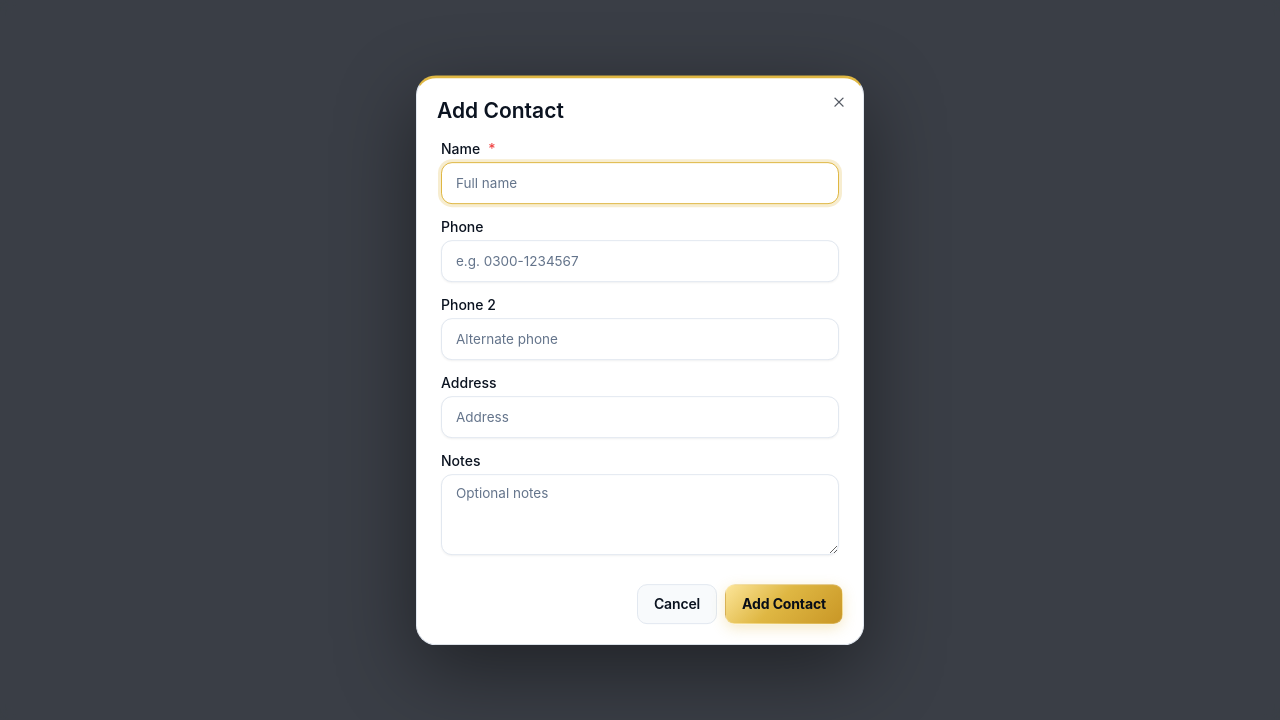
ContactDialog component › shows validation error and prevents submission when name is blank
This screenshot has width=1280, height=720.
Click the button "Add Contact": click(784, 604) [725, 584, 843, 624]
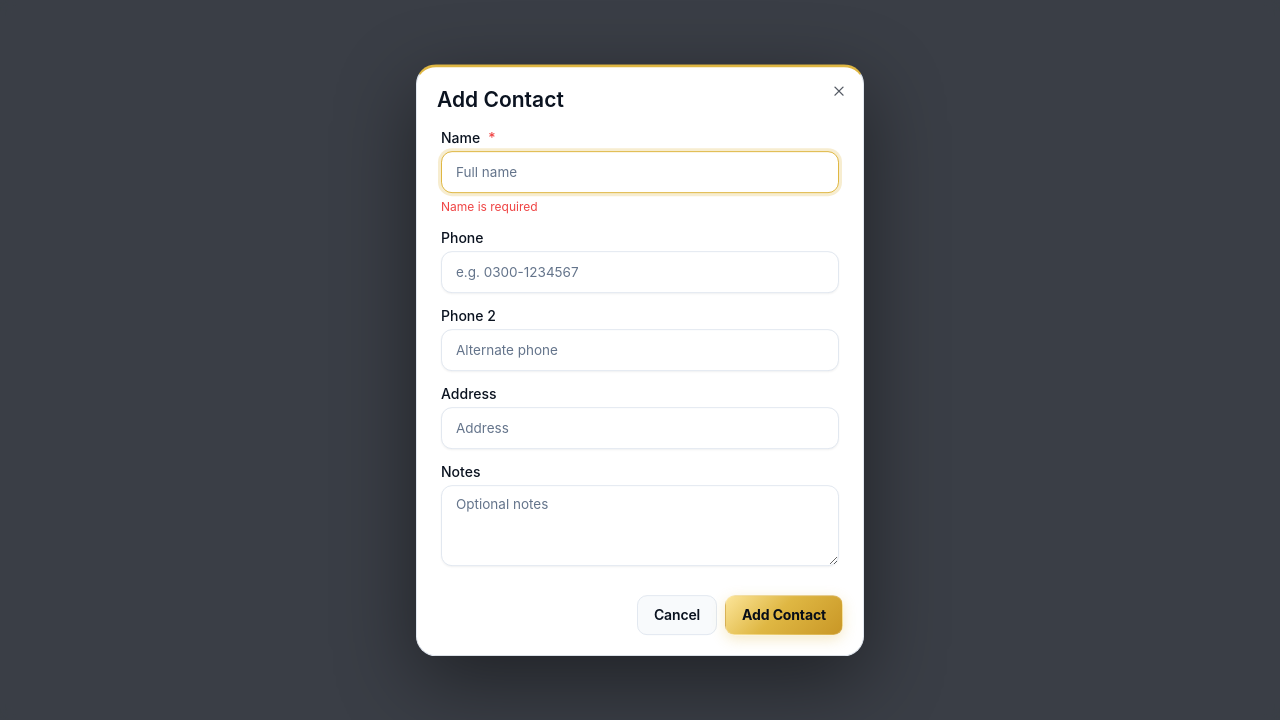
Check: the text "Name is required" is shown, box [441, 199, 538, 214]
